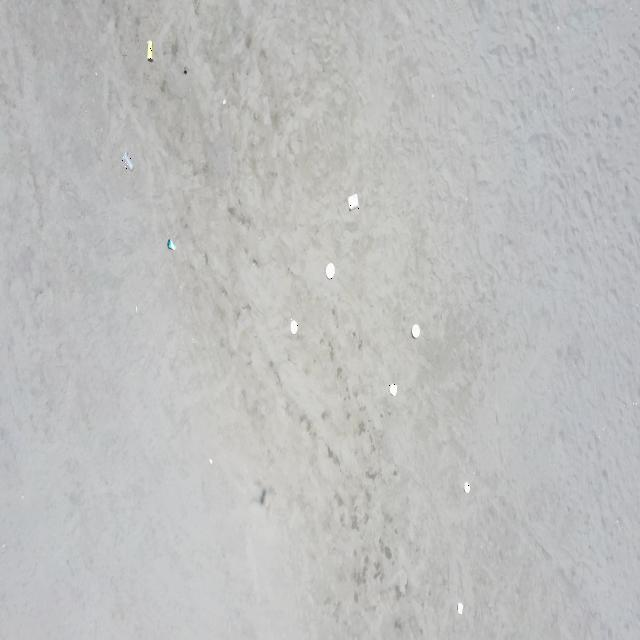take-away-containers: (348, 194, 359, 212), (324, 262, 334, 280), (290, 318, 298, 334), (412, 324, 420, 338), (388, 383, 396, 397), (456, 602, 464, 615), (464, 482, 470, 493)
takeaway-cup: (122, 152, 134, 172), (146, 40, 154, 60), (167, 239, 177, 251)
